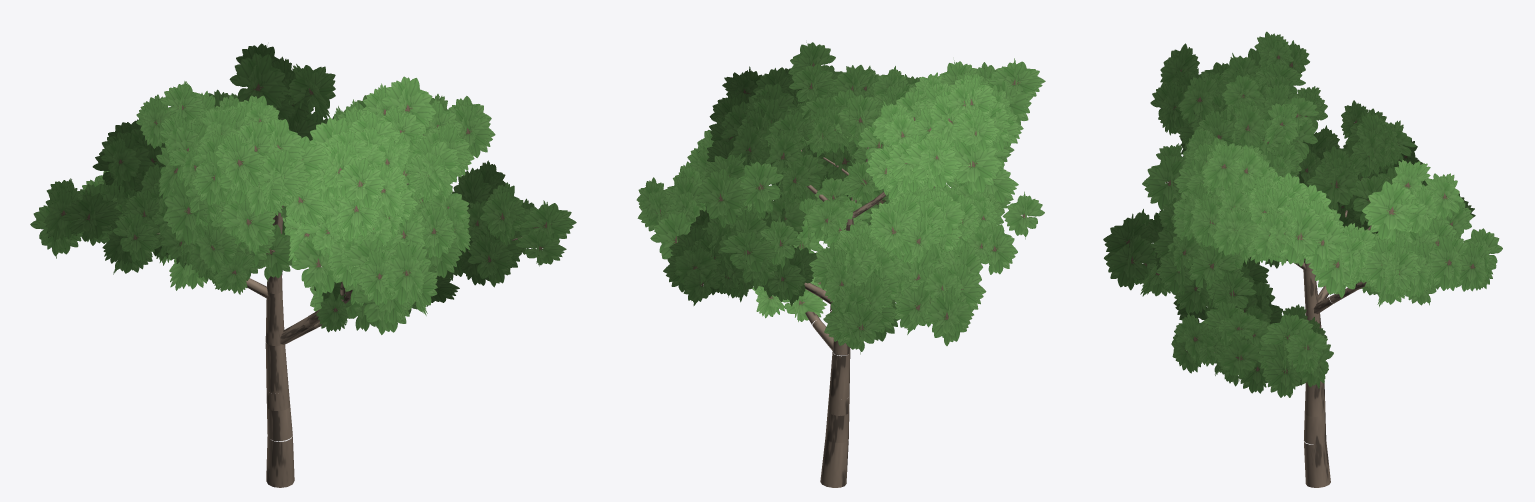
File: tree_b.gltf
The picture shows the model from 3 angles, left to right: view 1: azimuth 30°, elevation 25°; view 2: azimuth 150°, elevation 25°; view 3: azimuth 270°, elevation 25°; orthographic projection. The views are drawn at different scales.
Visible parts, largest first — view 1: Leaves, Trunk; view 2: Leaves, Trunk; view 3: Leaves, Trunk.
Boxes of the visible parts, x1,y1,x2,y2 form: Leaves: (30, 43, 576, 334); Trunk: (157, 135, 521, 487); Leaves: (636, 42, 1045, 354); Trunk: (801, 147, 885, 487); Leaves: (1103, 31, 1502, 397); Trunk: (1214, 210, 1371, 487).
Bounding box in the file's own units: 11.83 × 11.57 × 11.14.
2 materials, 2 textured.
